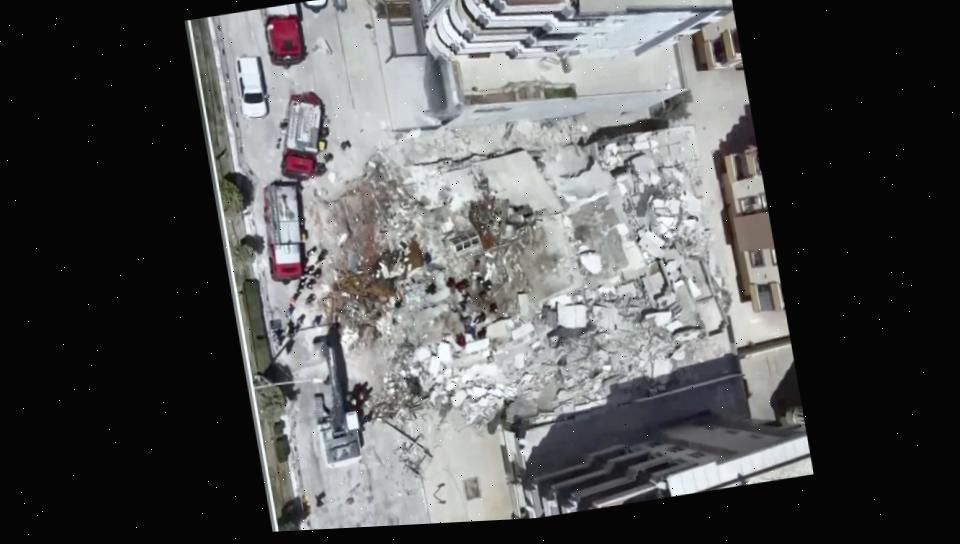kapali: (230, 135, 415, 465)
